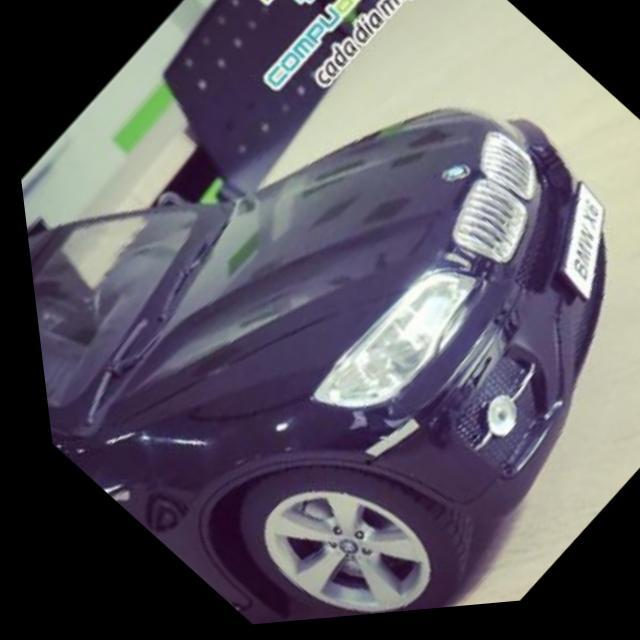license_plate: (508, 184, 640, 318)
